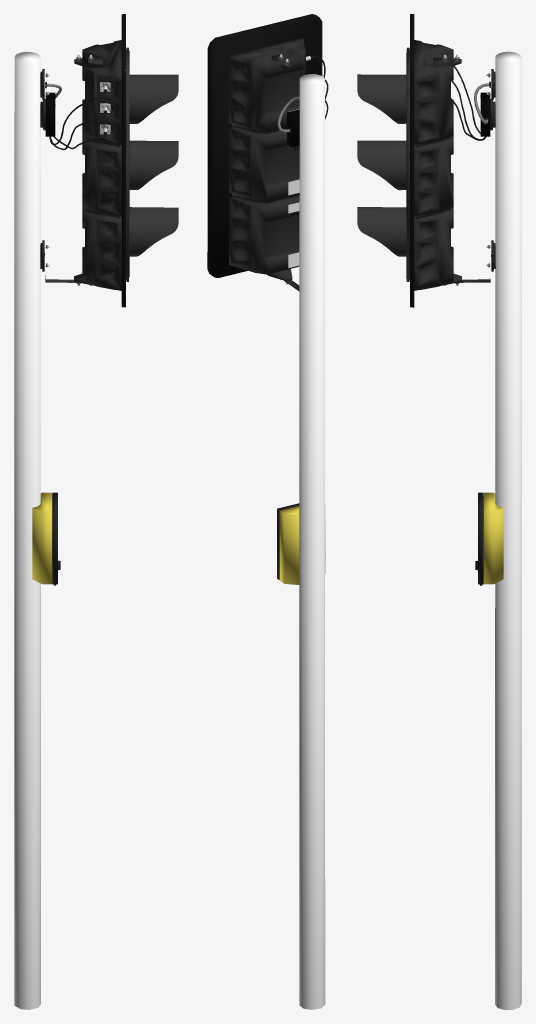
The model's file is traffic_01.glb.
The picture shows the model from 3 angles, left to right: view 1: azimuth 90°, elevation 25°; view 2: azimuth 210°, elevation 25°; view 3: azimuth 270°, elevation 25°; orthographic projection. The views are drawn at different scales.
Visible parts, largest first — view 1: LBackHousing.004; view 2: LBackHousing.004; view 3: LBackHousing.004.
Boxes of the visible parts, <box> form: LBackHousing.004: <box>14,14,178,1009</box>; LBackHousing.004: <box>207,14,328,1009</box>; LBackHousing.004: <box>357,14,521,1009</box>.
Bounding box in the file's own units: 0.5773 × 4.6 × 0.7105.
Materials: 29 (6 with a texture image).
